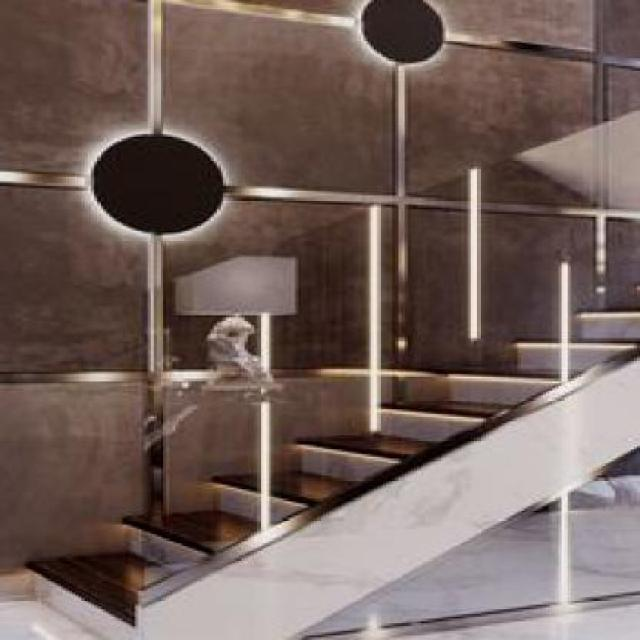stair: (3, 216, 639, 638)
